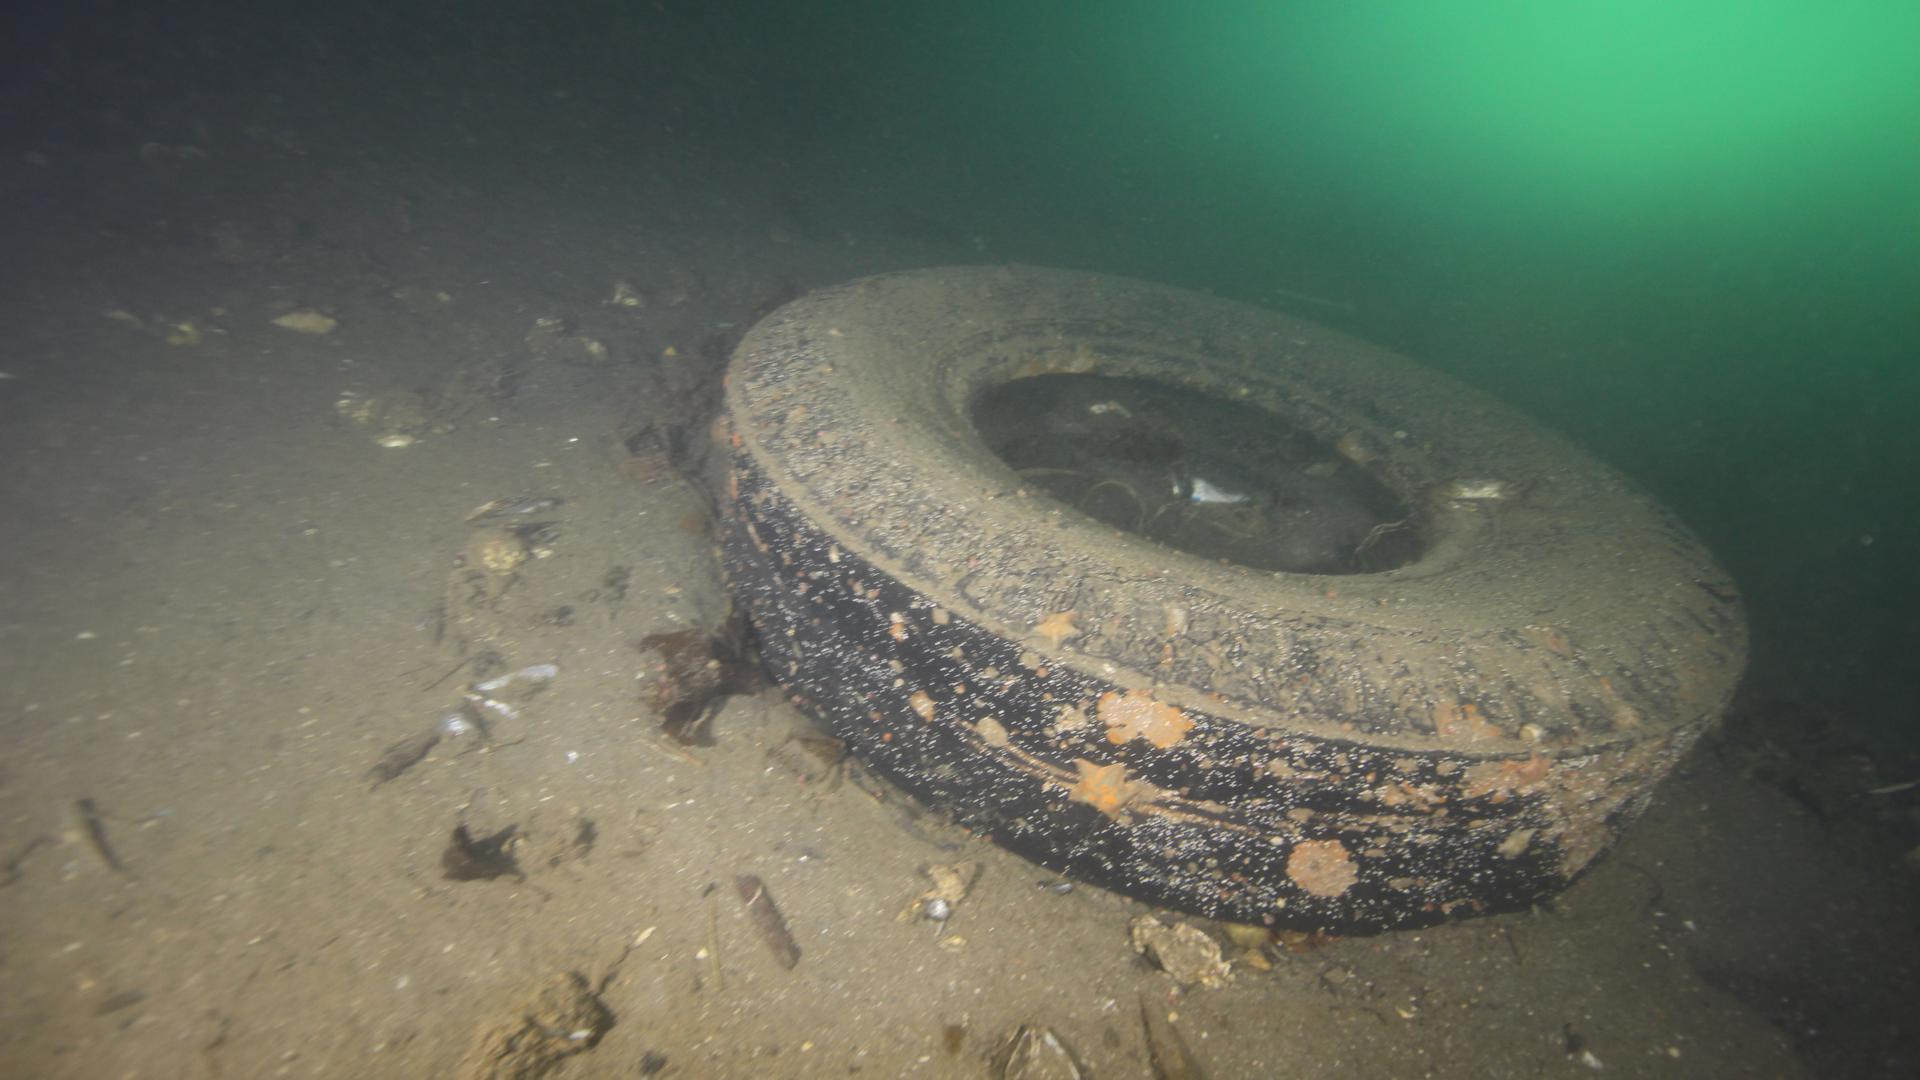tire: (708, 260, 1751, 930)
